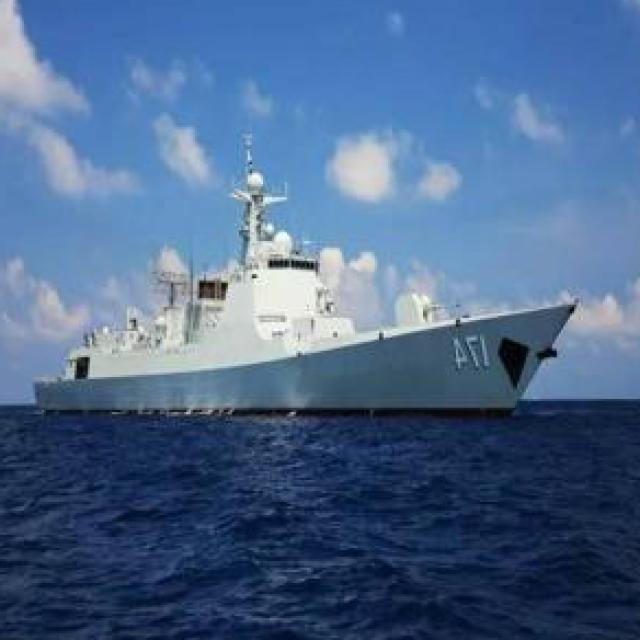navalvessels: (36, 117, 603, 425)
